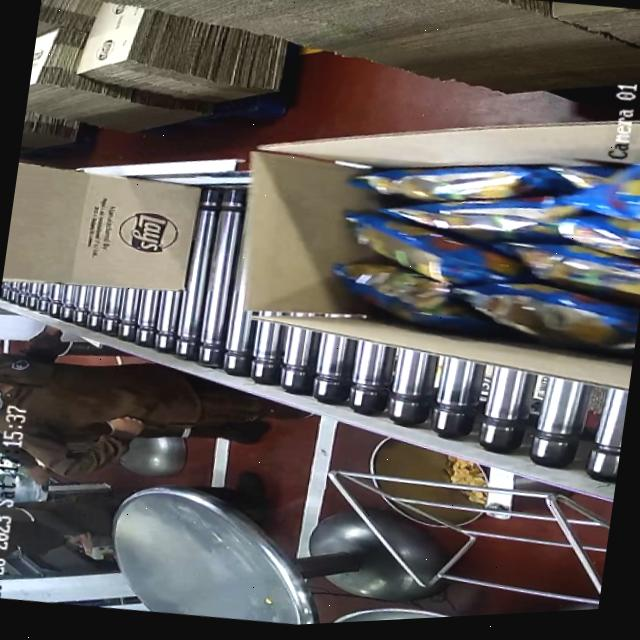PAPRIKA: (306, 110, 640, 376)
